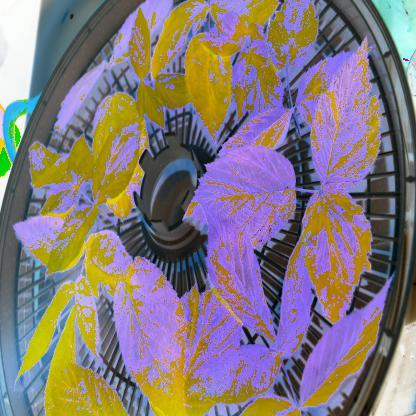Raspberry leaf: (182, 149, 298, 247), (309, 36, 380, 188), (302, 184, 374, 324)
